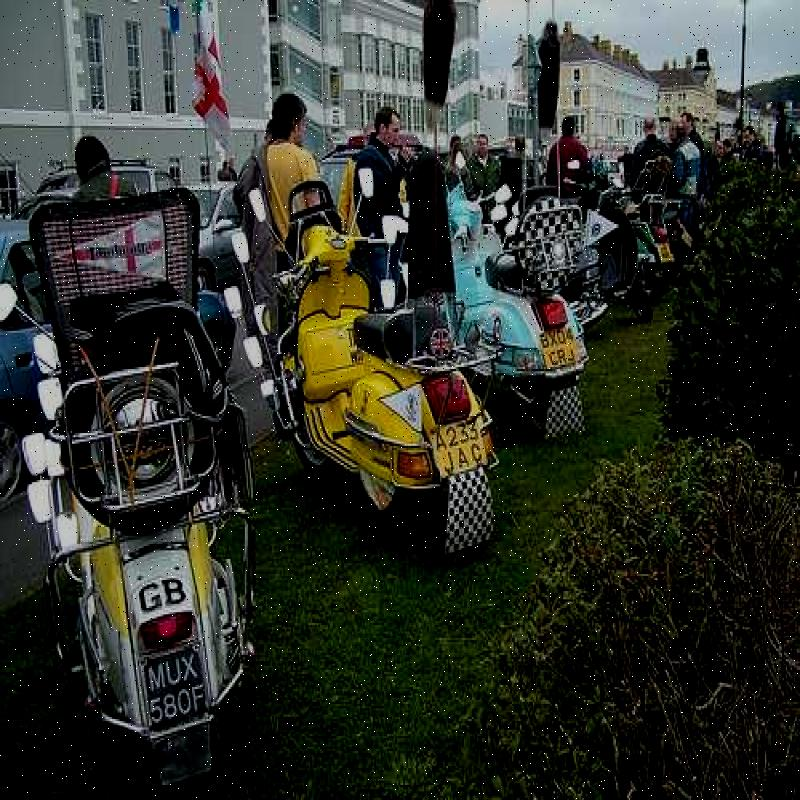bike: (264, 224, 457, 508), (91, 388, 246, 737), (452, 180, 570, 404)
